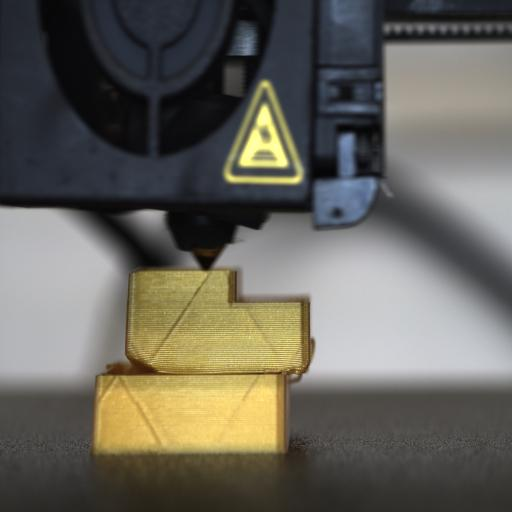layer_shift: (94, 358, 316, 384)
